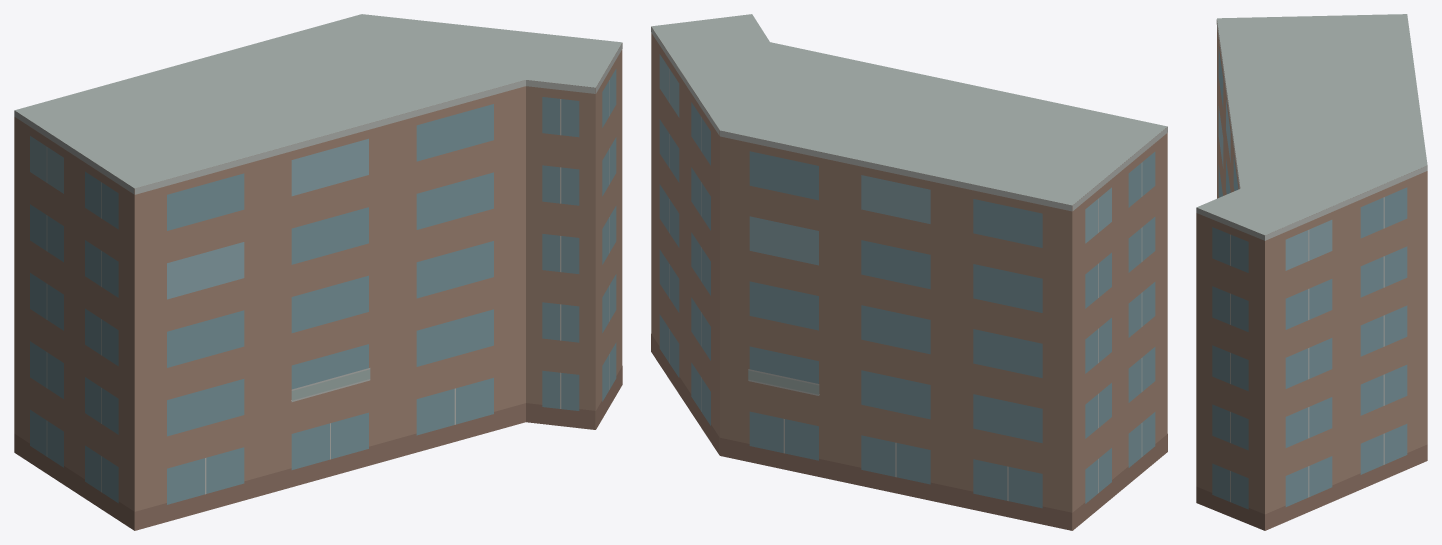
The model's file is survey-upis-32885753.glb.
The picture shows the model from 3 angles, left to right: view 1: azimuth 30°, elevation 25°; view 2: azimuth 150°, elevation 25°; view 3: azimuth 270°, elevation 25°; orthographic projection. The views are drawn at different scales.
Visible parts, largest first — view 1: survey-upis-32885753.tmp; view 2: survey-upis-32885753.tmp; view 3: survey-upis-32885753.tmp.
Part boxes in pixels (x1,y1,x2,y2): survey-upis-32885753.tmp: (14,14,622,530); survey-upis-32885753.tmp: (651,14,1167,530); survey-upis-32885753.tmp: (1196,14,1427,530).
Size of the model in its own units: 21.22 by 13.2 by 9.37.
